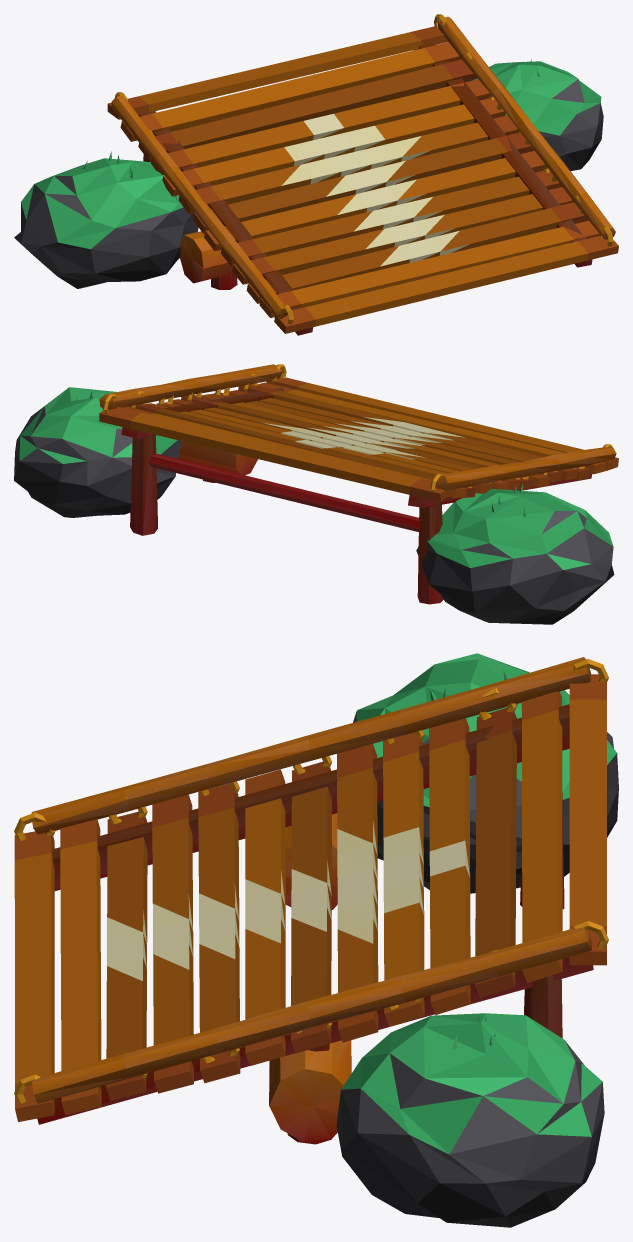
File: riverrush_short_ramp_shrine_414754.glb
3 renders of one model, top to bottom at view 1: azimuth 30°, elevation 25°; view 2: azimuth 150°, elevation 25°; view 3: azimuth 270°, elevation 25°, orthographic. The views are drawn at different scales.
Parts seen in each view (by area): view 1: Tanjakan_Jumping_Pendek; view 2: Tanjakan_Jumping_Pendek; view 3: Tanjakan_Jumping_Pendek.
Boxes of the visible parts, <box> form: Tanjakan_Jumping_Pendek: <box>14,14,618,335</box>; Tanjakan_Jumping_Pendek: <box>14,364,618,624</box>; Tanjakan_Jumping_Pendek: <box>14,653,618,1227</box>.
Bounding box in the file's own units: 9.65 × 2.42 × 5.25.
